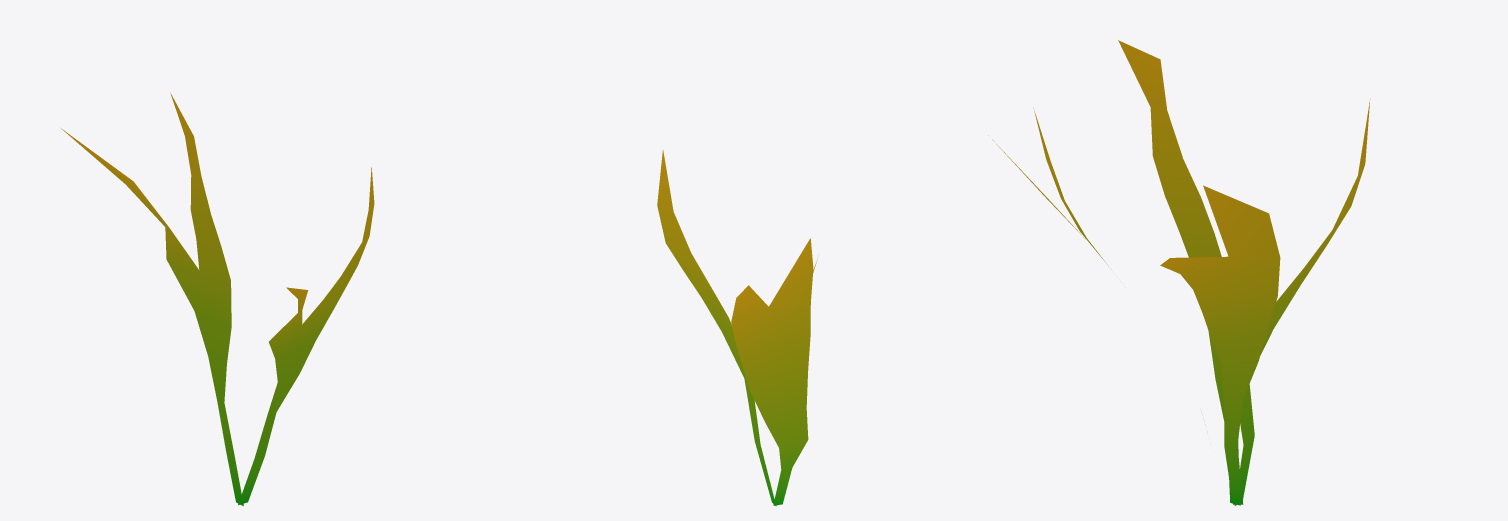
3 renders of one model, left to right at view 1: azimuth 30°, elevation 25°; view 2: azimuth 150°, elevation 25°; view 3: azimuth 270°, elevation 25°, orthographic. The views are drawn at different scales.
Visible parts, largest first — view 1: _c8f2_Var1_LOD1; view 2: _c8f2_Var1_LOD1; view 3: _c8f2_Var1_LOD1.
Part boxes in pixels (bbox=[...]): _c8f2_Var1_LOD1: bbox=[61, 92, 374, 506]; _c8f2_Var1_LOD1: bbox=[657, 150, 817, 506]; _c8f2_Var1_LOD1: bbox=[988, 40, 1370, 505].
Size of the model in its own units: 0.8577 by 1 by 0.9323.
